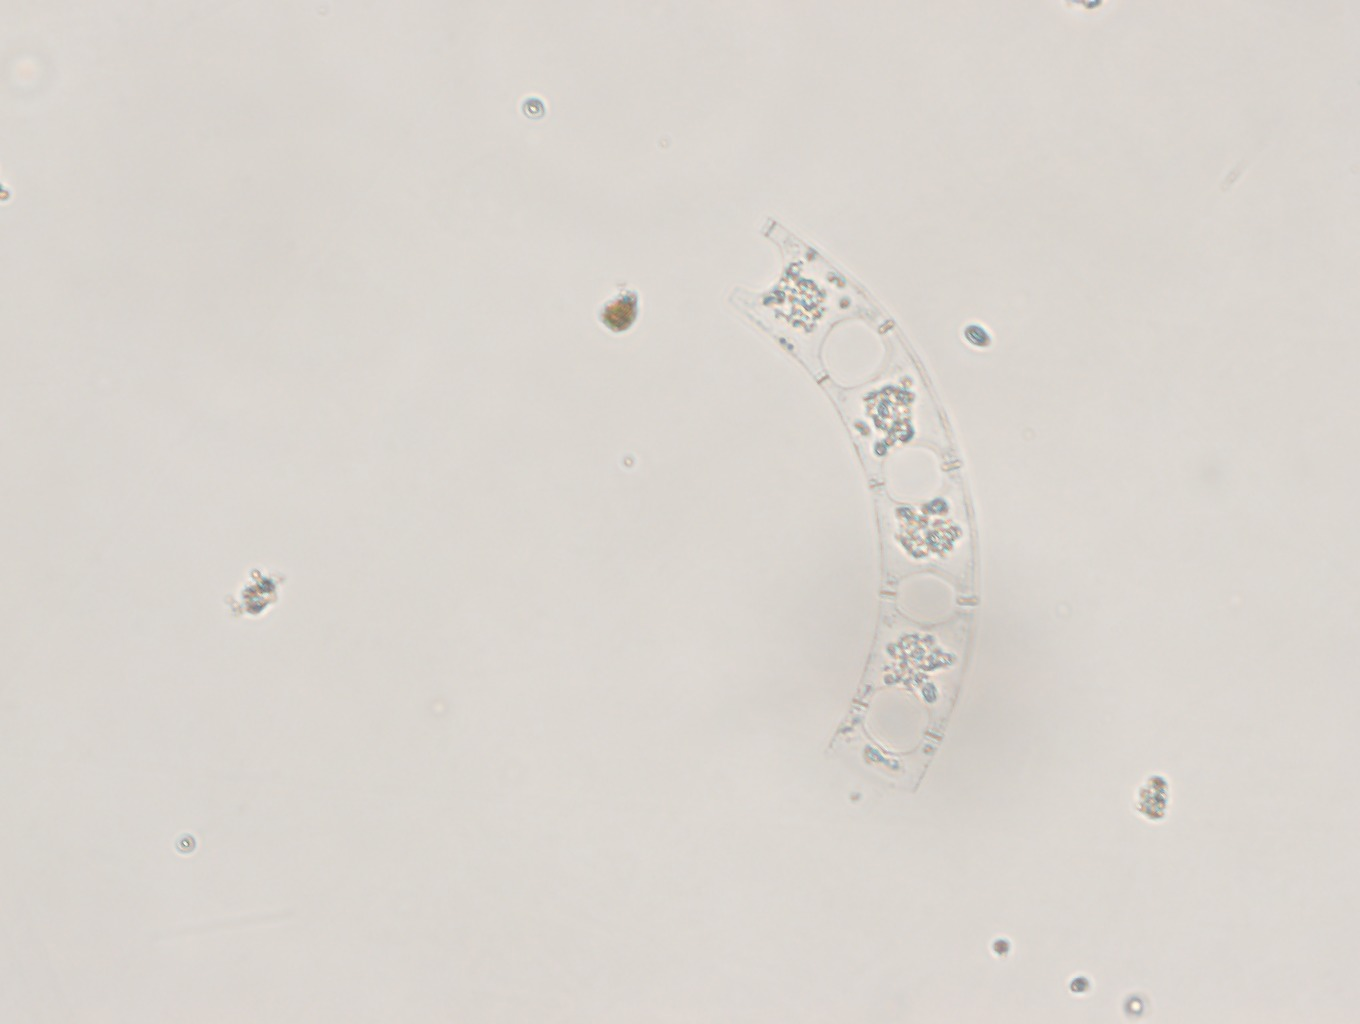eucampia: (713, 214, 994, 812)
